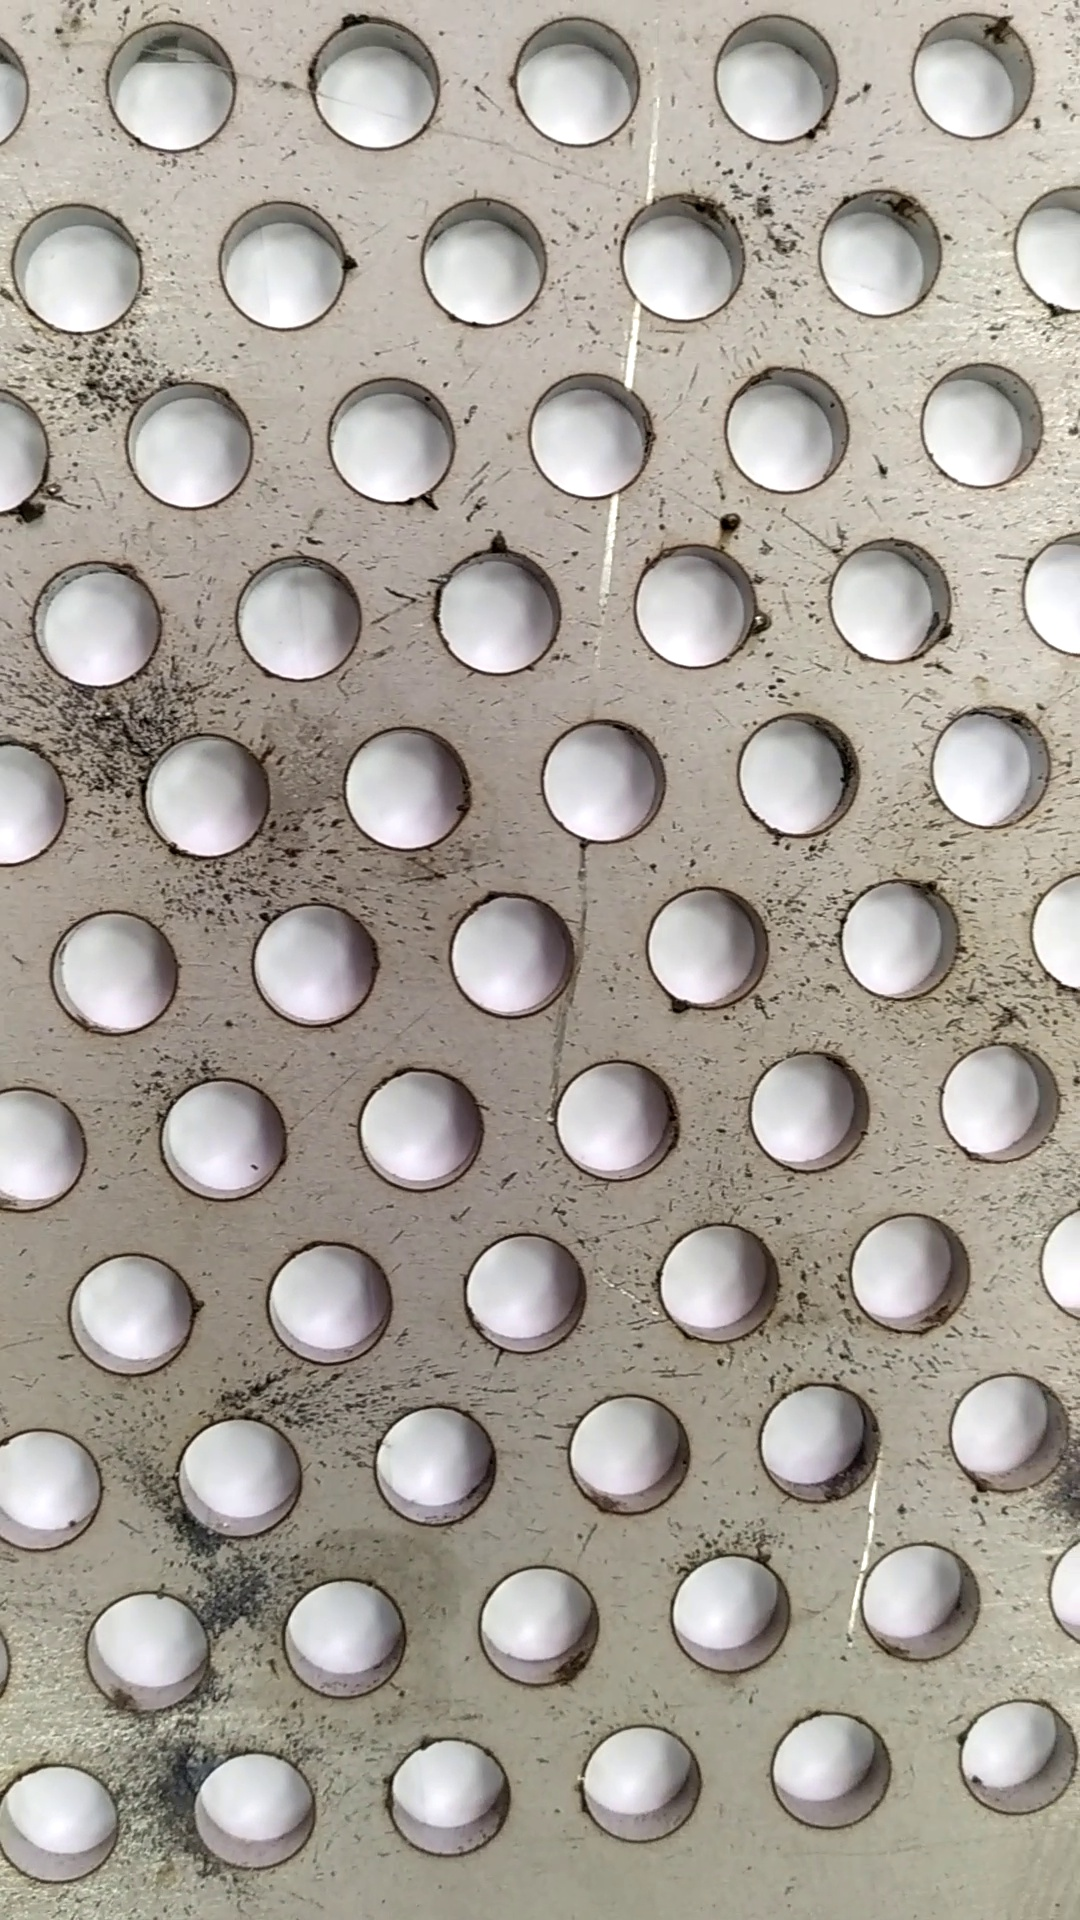Hole: (112, 371, 276, 513), (220, 553, 378, 694), (11, 193, 160, 340), (418, 541, 568, 687), (92, 15, 245, 158), (157, 1408, 313, 1548), (132, 720, 284, 862), (206, 191, 359, 330), (709, 356, 855, 501), (655, 1542, 802, 1685), (373, 1730, 522, 1871), (411, 187, 559, 328), (347, 1058, 495, 1199), (328, 720, 477, 860), (237, 897, 386, 1036), (152, 1069, 301, 1209), (514, 360, 659, 502), (363, 1396, 510, 1536), (945, 1685, 1080, 1838), (301, 7, 443, 150), (899, 1, 1040, 146), (530, 711, 676, 851), (253, 1234, 406, 1367), (905, 352, 1044, 497), (702, 5, 840, 152), (69, 1586, 220, 1720), (828, 870, 973, 1009), (851, 1528, 992, 1669), (272, 1568, 415, 1706), (761, 1701, 905, 1840), (622, 183, 760, 328), (563, 1716, 709, 1851), (28, 554, 167, 695), (727, 703, 866, 844), (922, 698, 1063, 837), (47, 899, 187, 1040), (502, 9, 645, 148), (541, 1048, 688, 1182), (436, 889, 585, 1021), (816, 534, 959, 671), (930, 1029, 1067, 1171), (469, 1556, 611, 1693), (749, 1375, 891, 1511), (620, 538, 765, 671), (57, 1246, 204, 1377), (181, 1741, 326, 1873), (320, 367, 458, 505), (820, 181, 961, 315), (563, 1383, 698, 1524), (736, 1046, 873, 1183), (647, 1213, 787, 1348), (454, 1224, 596, 1356), (841, 1207, 977, 1342), (638, 881, 775, 1013), (942, 1367, 1077, 1497)
